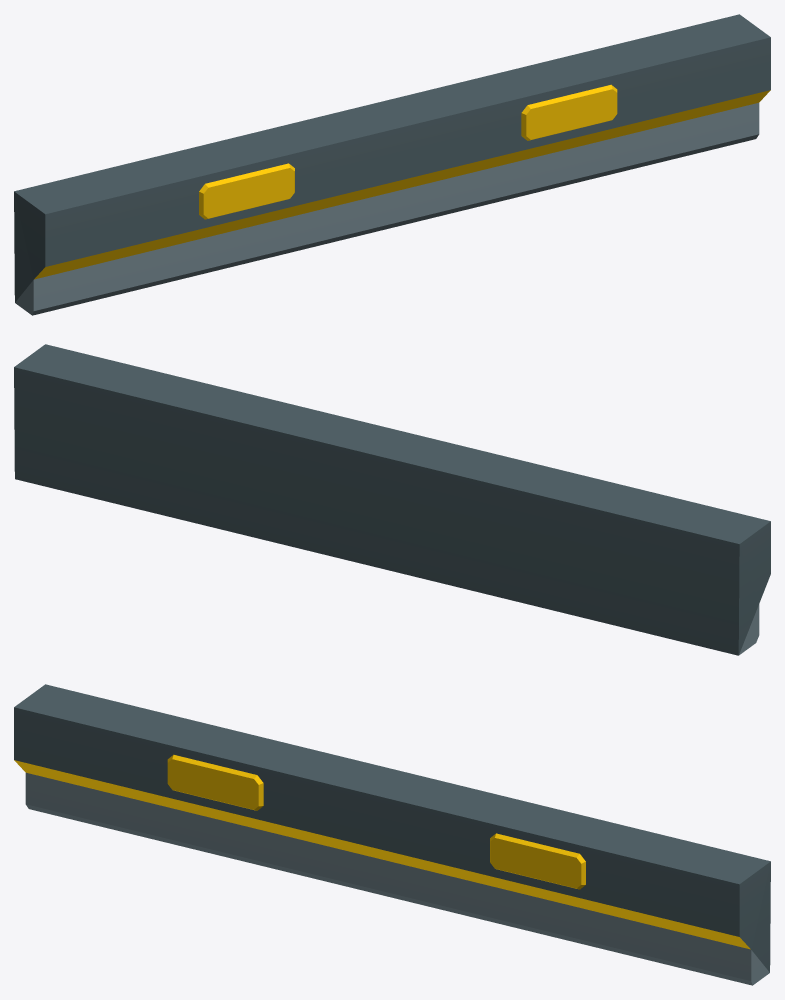
File: Wall_type_C_024.fbx
3 renders of one model, top to bottom at view 1: azimuth 30°, elevation 25°; view 2: azimuth 150°, elevation 25°; view 3: azimuth 330°, elevation 25°, orthographic.
Visible parts, largest first — view 1: Wall_type_C_024; view 2: Wall_type_C_024; view 3: Wall_type_C_024.
Part boxes in pixels (left/top/right/bottom): Wall_type_C_024: left=14, top=14, right=770, bottom=315; Wall_type_C_024: left=14, top=344, right=770, bottom=655; Wall_type_C_024: left=14, top=684, right=770, bottom=985.
Size of the model in its own units: 360 by 28.98 by 53.
